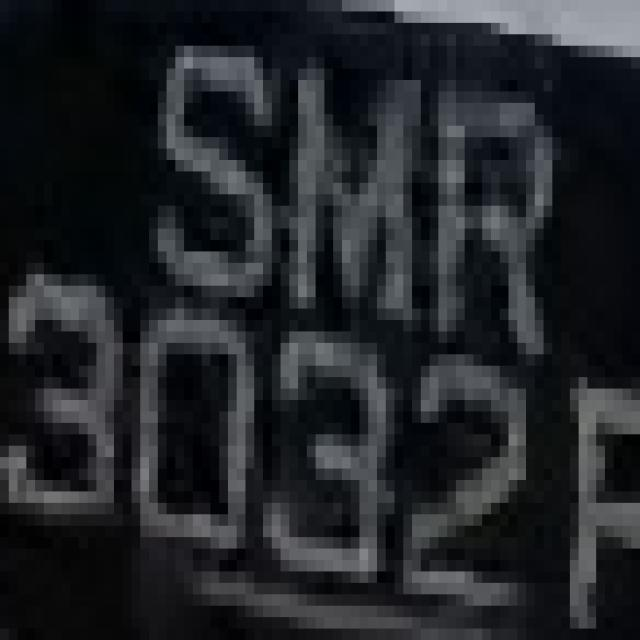0: (114, 274, 245, 560)
2: (368, 320, 544, 617)
3: (0, 252, 132, 548), (263, 308, 386, 583)
M: (272, 34, 429, 343)
P: (561, 343, 640, 606)
R: (429, 69, 570, 377)
S: (122, 12, 280, 297)
